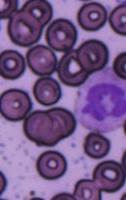N: (75, 66, 126, 133)
